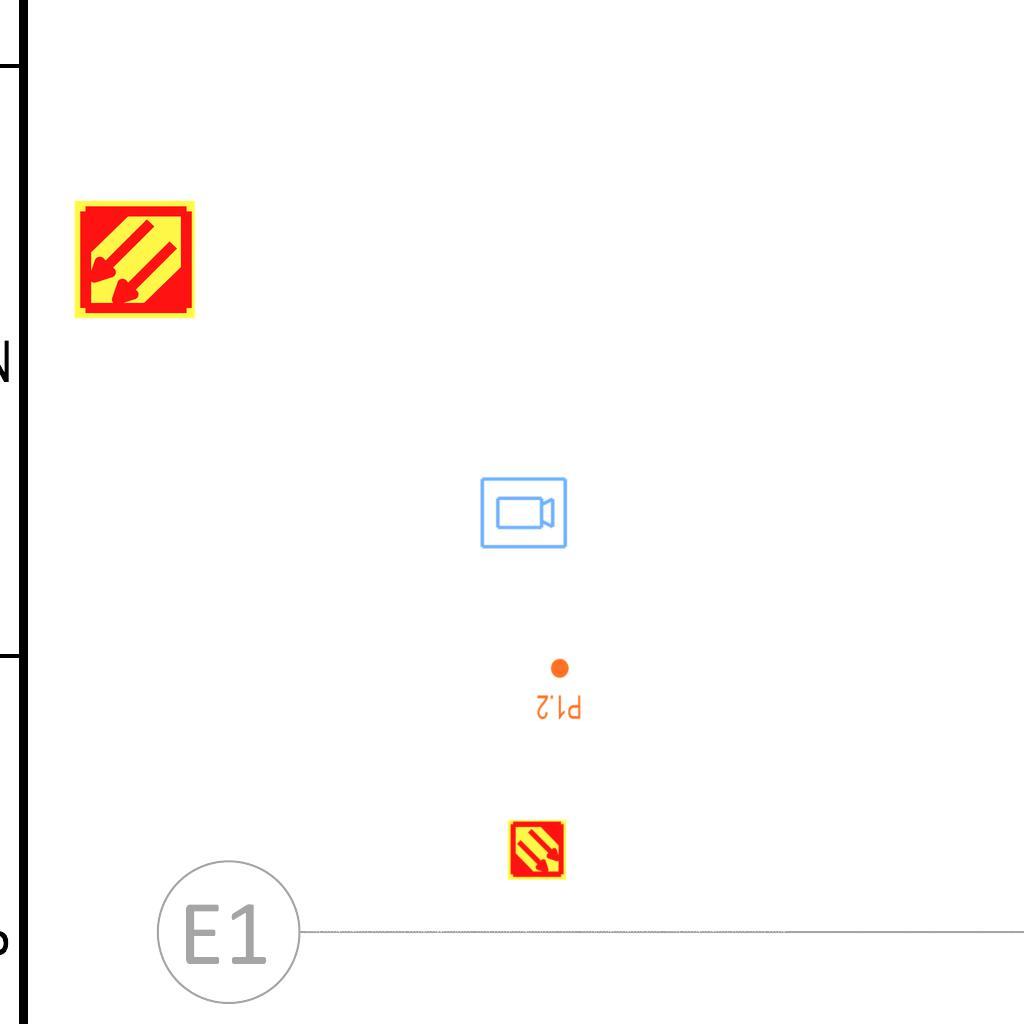ASR_Ansaugrauchmelder: (72, 197, 197, 322), (506, 819, 568, 881)
Downlight_LED_Einbauleuchten_Flur: (536, 657, 582, 721)
KFO_Kamera_mit_Festobjektiv: (478, 475, 569, 552)
